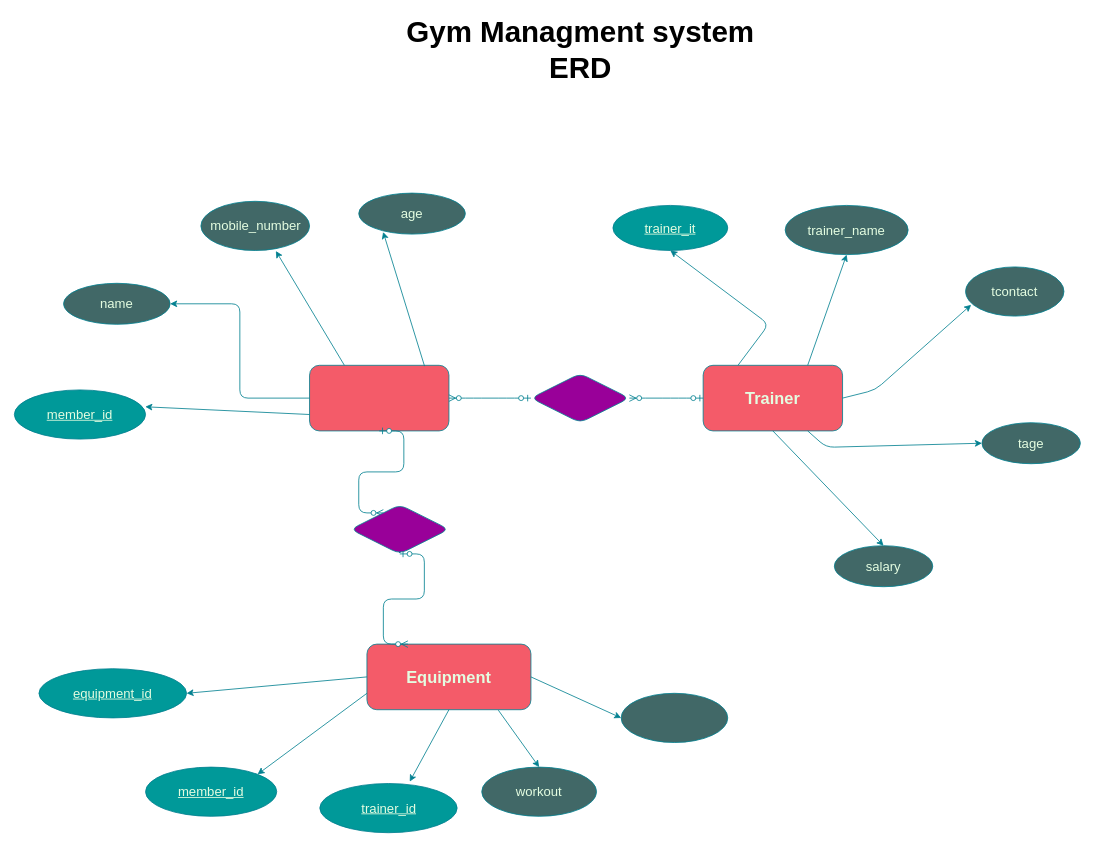
Image size: 1095x847. Some labels were removed from this diagram. Here are the shapes that lost their labels. From the top down, the centre of each, then its label:
point 379,397: Member
point 579,398: teach
point 399,529: use
point 674,717: equipment_list
